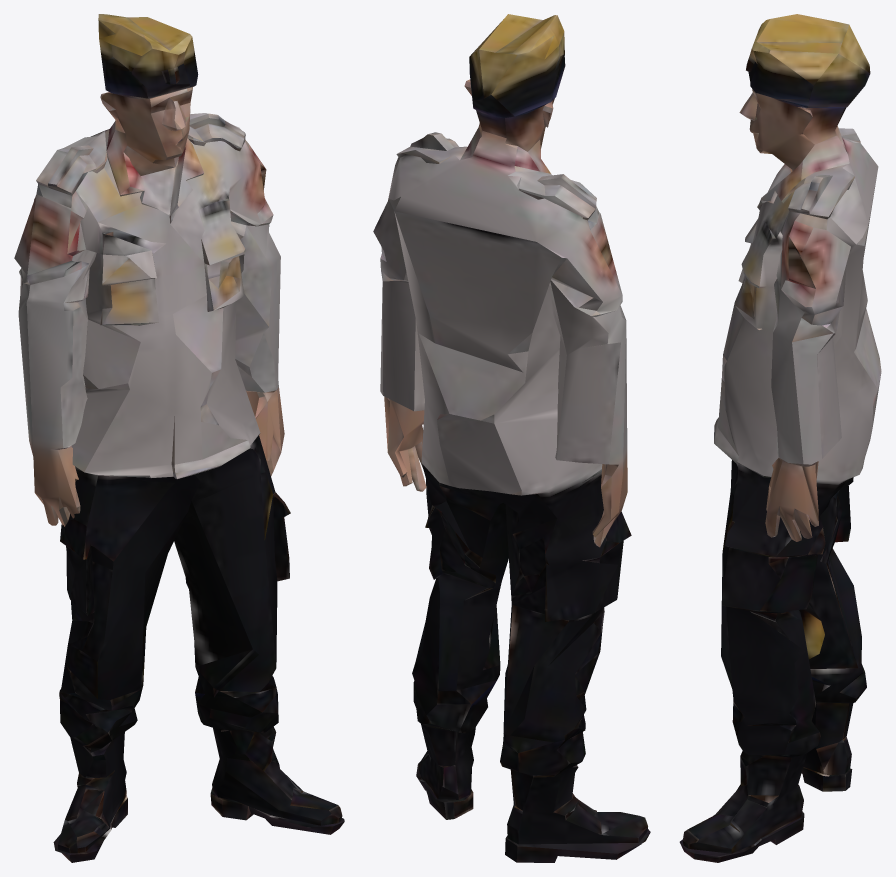
Rendered from babin_idle_lod2.glb.
3 views of the same model, side by side, from view 1: azimuth 30°, elevation 25°; view 2: azimuth 150°, elevation 25°; view 3: azimuth 270°, elevation 25° (orthographic). The views are drawn at different scales.
Parts seen in each view (by area): view 1: tripo_node_e2816910; view 2: tripo_node_e2816910; view 3: tripo_node_e2816910.
Boxes of the visible parts, x1,y1,x2,y2 form: tripo_node_e2816910: [14, 14, 344, 862]; tripo_node_e2816910: [373, 14, 650, 862]; tripo_node_e2816910: [679, 14, 881, 862].
Bounding box in the file's own units: 33.06 × 99.38 × 23.54.
Materials: 1 (1 with a texture image).
